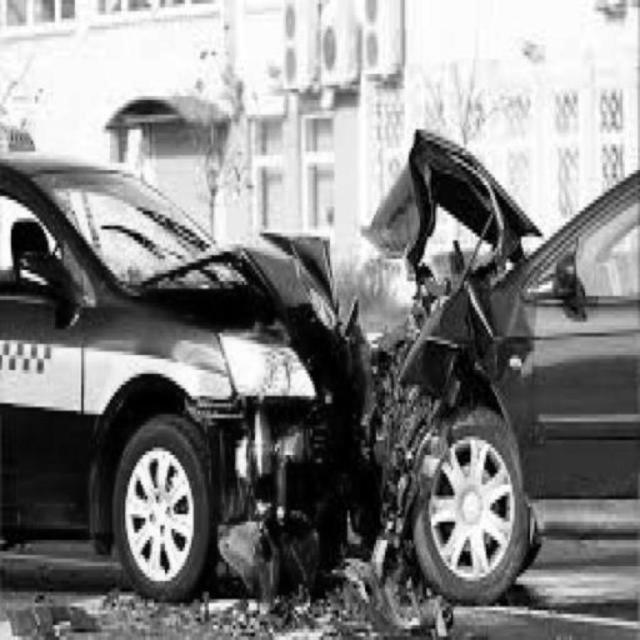accident: (18, 162, 640, 595)
